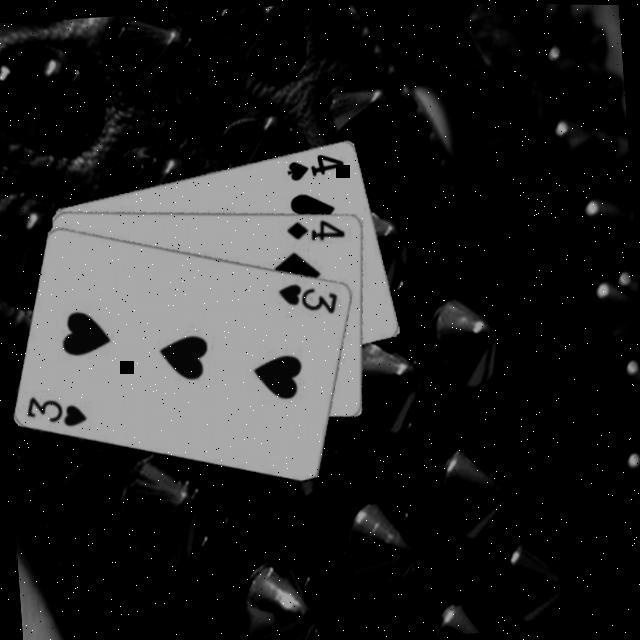3H: (20, 388, 88, 430), (273, 275, 339, 317)
4D: (281, 212, 347, 242)
4S: (282, 146, 346, 182)
